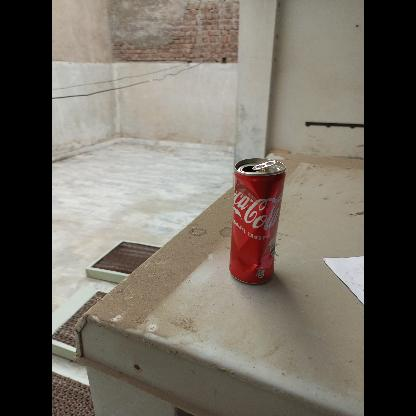Dent_Can: (234, 179, 278, 280), (234, 185, 242, 203)
Lid_Open: (243, 160, 277, 176)
Tin_Can: (226, 155, 286, 287)
